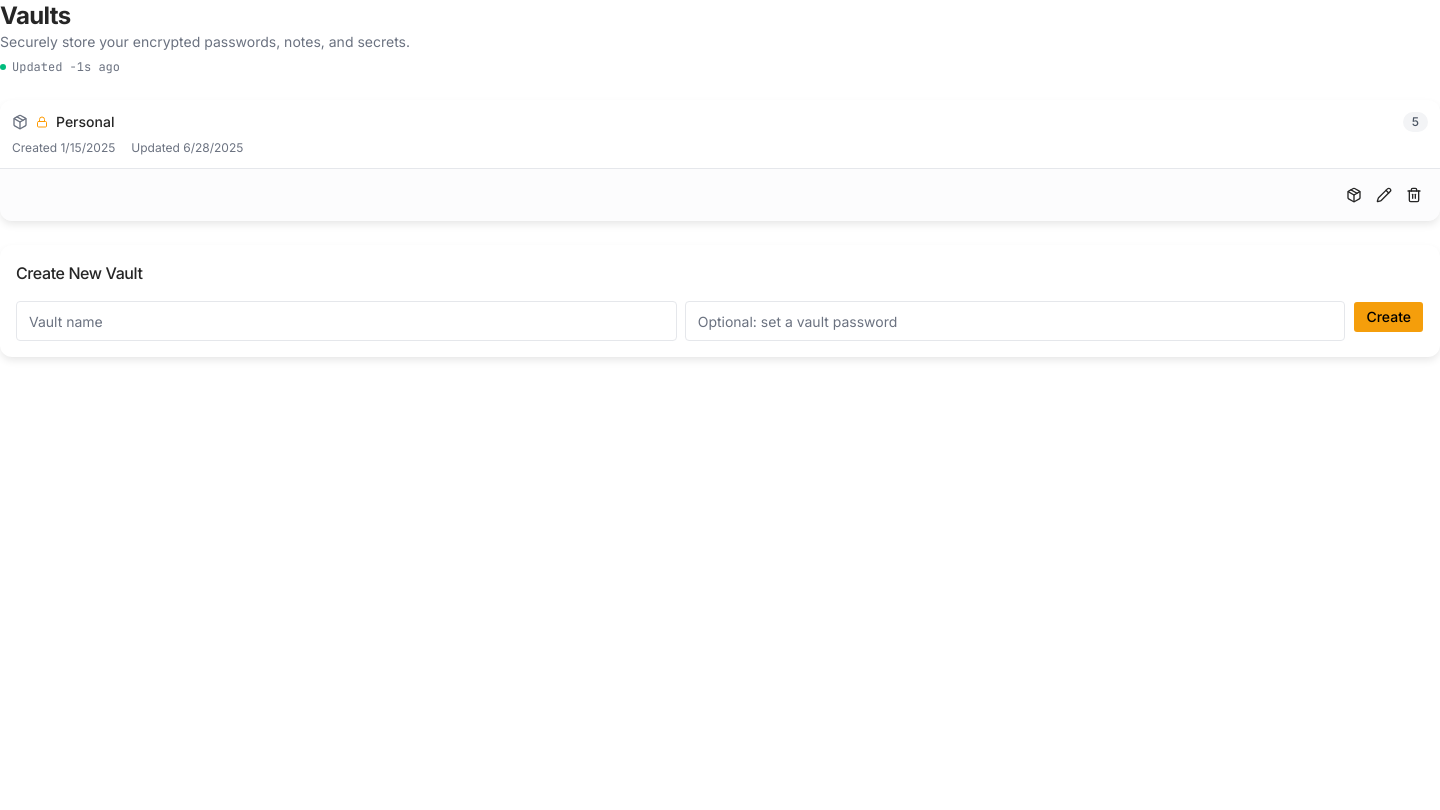
Test case: VaultsPage › edit dialog shows password fields for protected vault
Expected: the text "Personal" is shown, [56,112,114,132]
Click the button named "Edit vault". click: click(1384, 195)
box: [1370,181,1398,209]
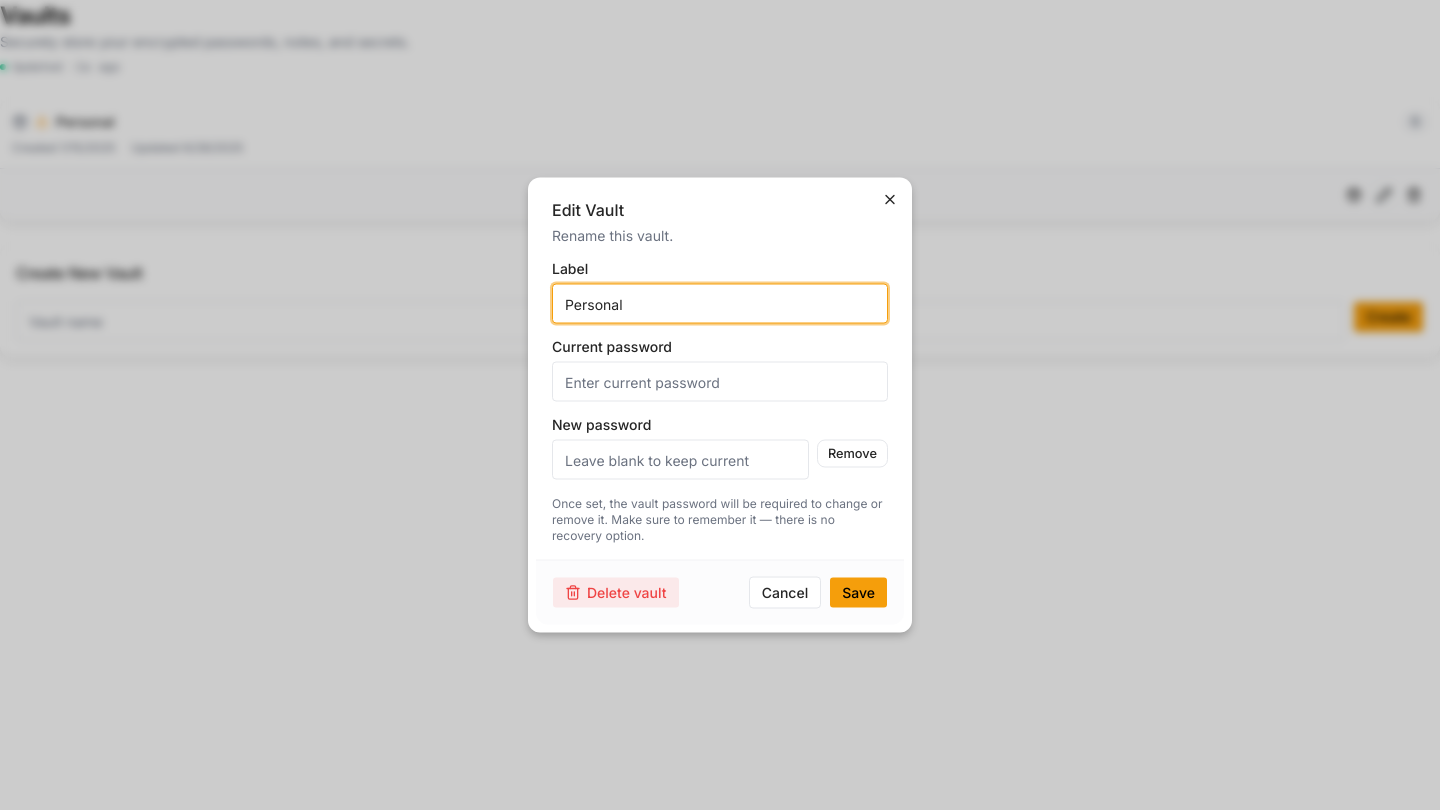
Expected: the heading "Edit Vault" is shown, [552,200,624,220]
Expected: the password field labelled "Current password" is shown, [552,362,888,402]
Expected: the password field labelled "New password" is shown, [552,440,809,480]
